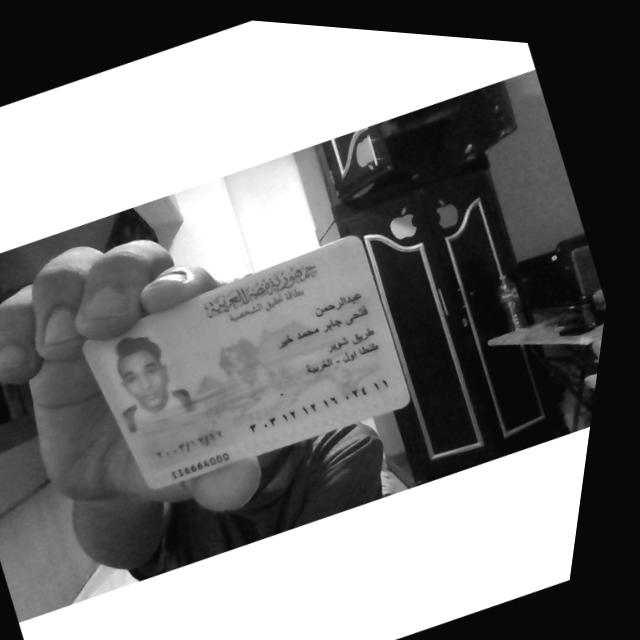front: (84, 236, 410, 488)
